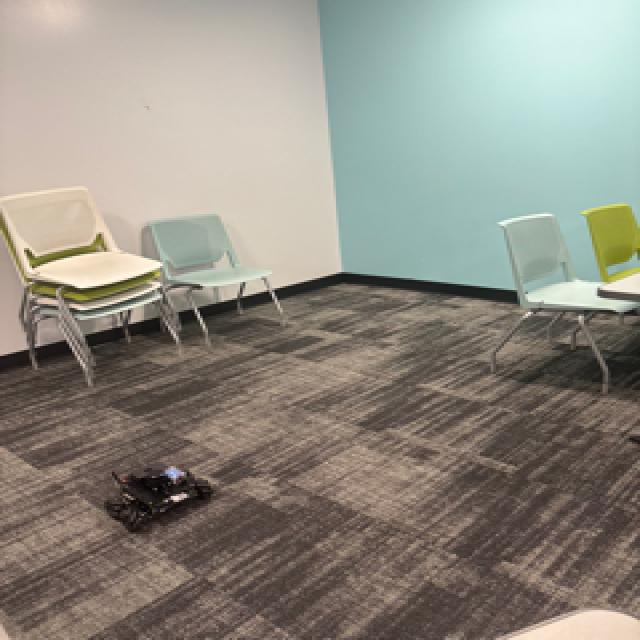ArduinoCar3: (101, 462, 215, 526)
